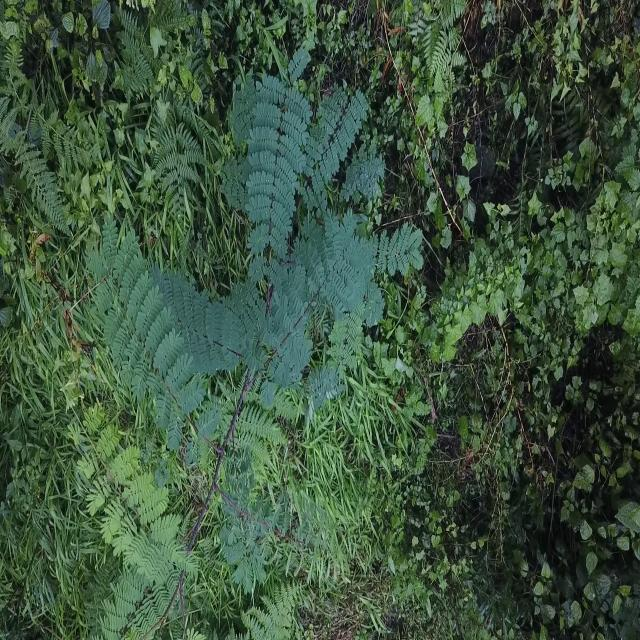Mysore-Thorn-Weed: (63, 32, 433, 640)
